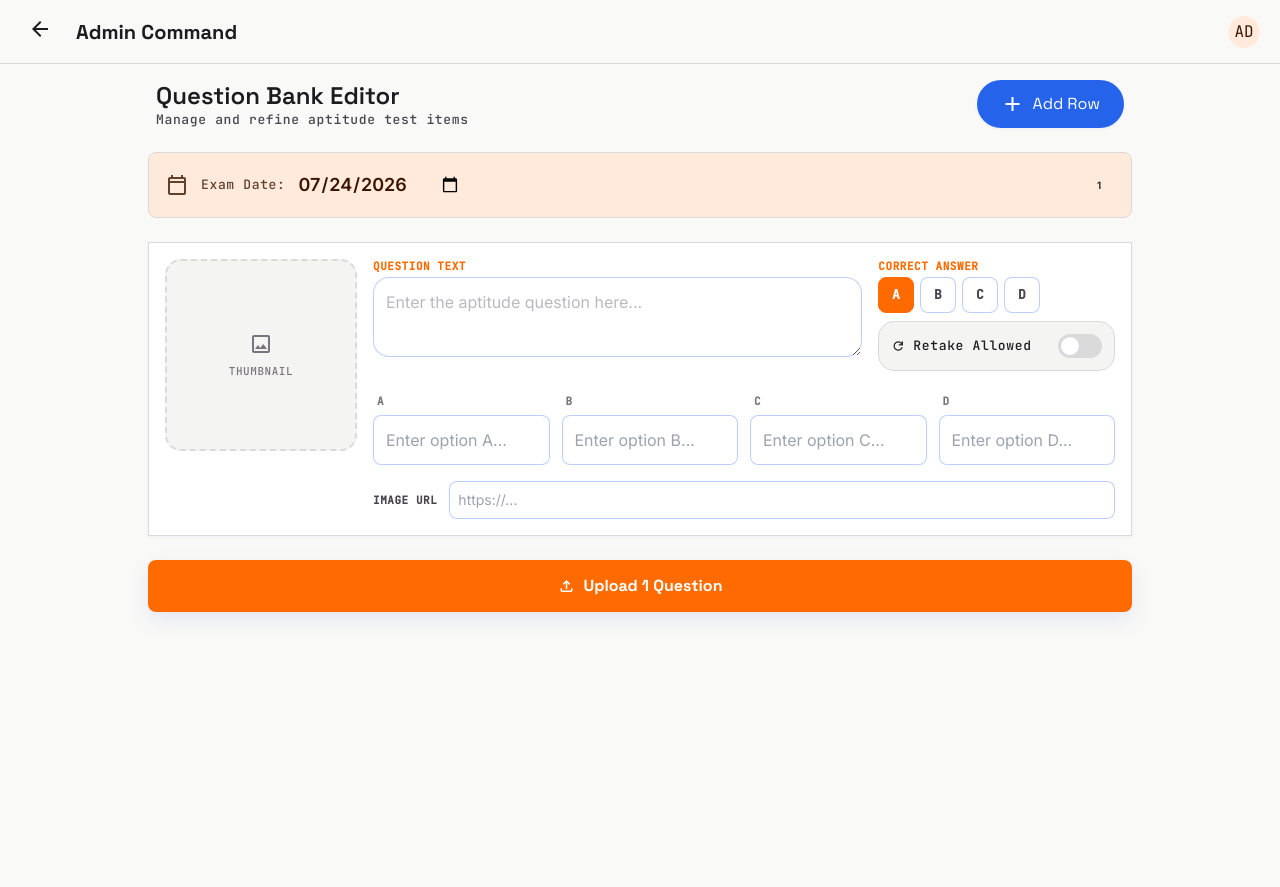
Scenario: TeacherUpload › adds a new question row when Add Row clicked
Click the button "Add Row". click: [1050, 104]
box: top-left (976, 80), bottom-right (1124, 128)
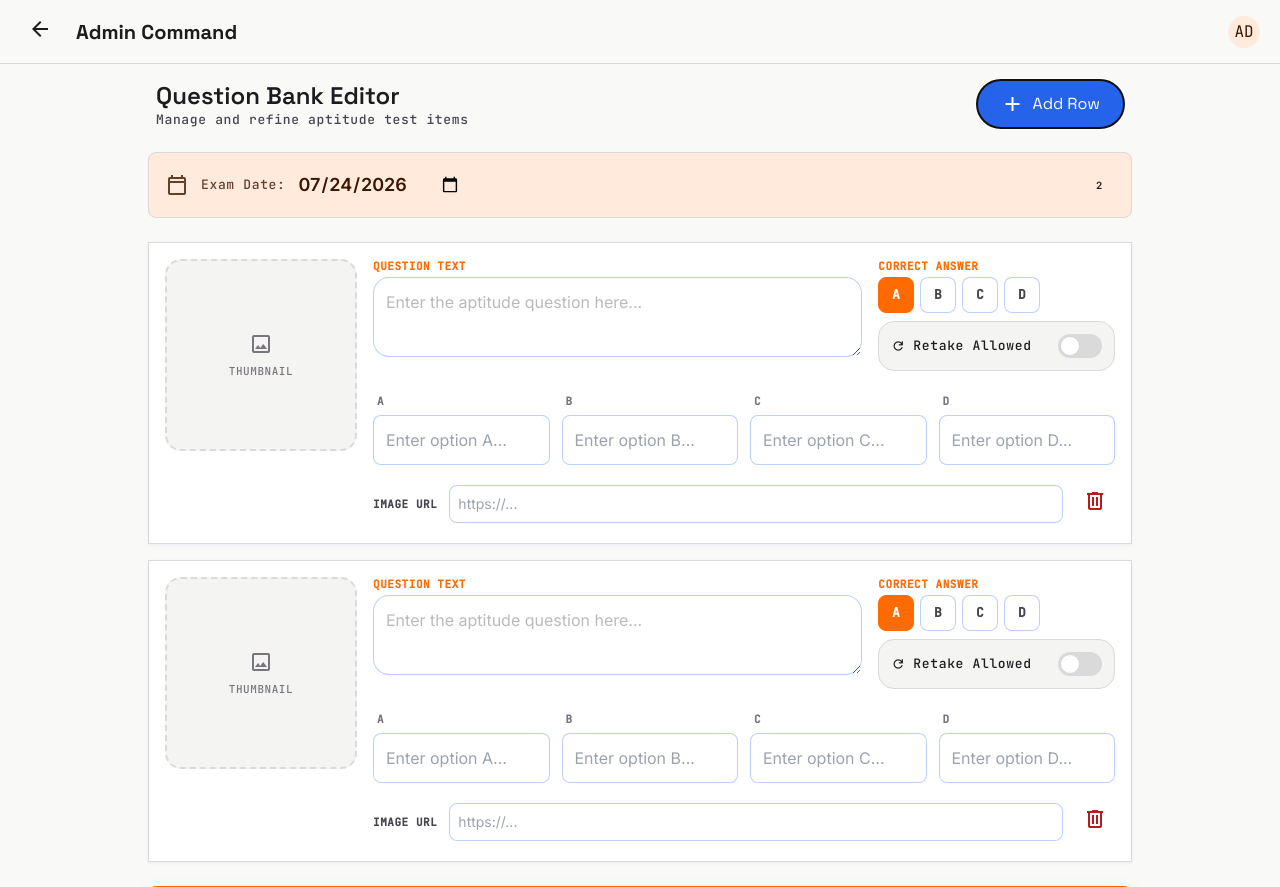
expect the number of text boxes with placeholder "Enter the aptitude question here..." is 2: met, box top-left (373, 277), bottom-right (862, 357); top-left (373, 595), bottom-right (862, 675)
